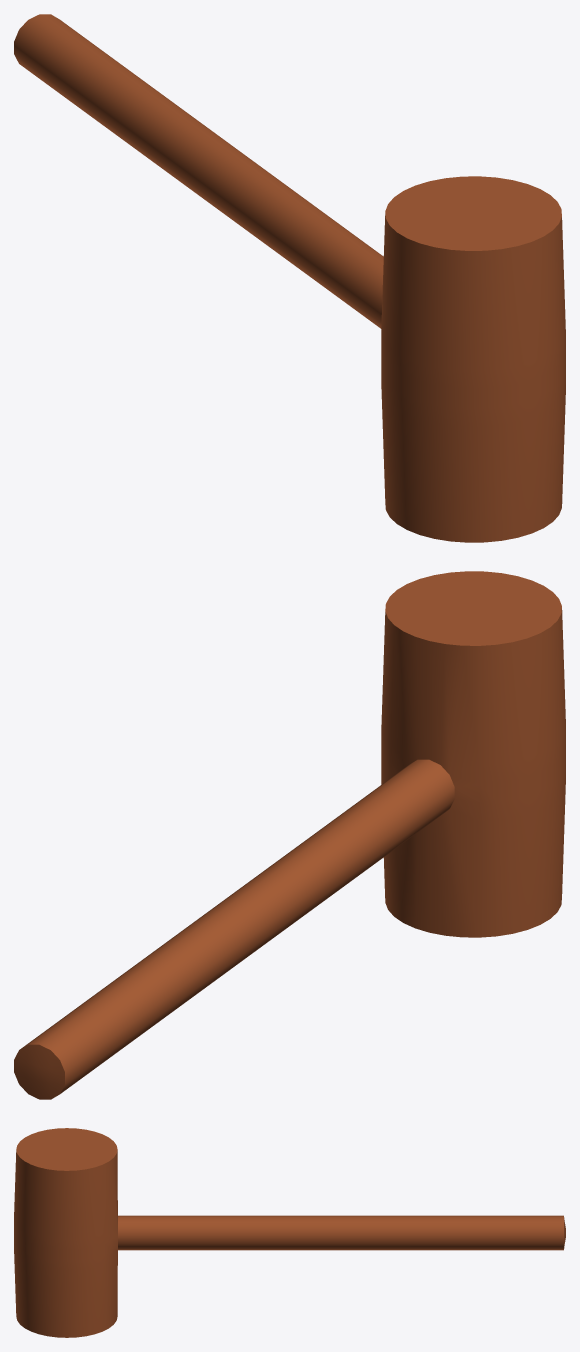
The model's file is Hammer.fbx.
3 renders of one model, top to bottom at view 1: azimuth 30°, elevation 25°; view 2: azimuth 150°, elevation 25°; view 3: azimuth 270°, elevation 25°, orthographic. The views are drawn at different scales.
Visible parts, largest first — view 1: Cylinder; view 2: Cylinder; view 3: Cylinder.
Boxes of the visible parts, bbox=[...] form: Cylinder: bbox=[14, 14, 565, 542]; Cylinder: bbox=[14, 571, 565, 1099]; Cylinder: bbox=[14, 1128, 565, 1337].
Size of the model in its own units: 209 by 363 by 1089.
